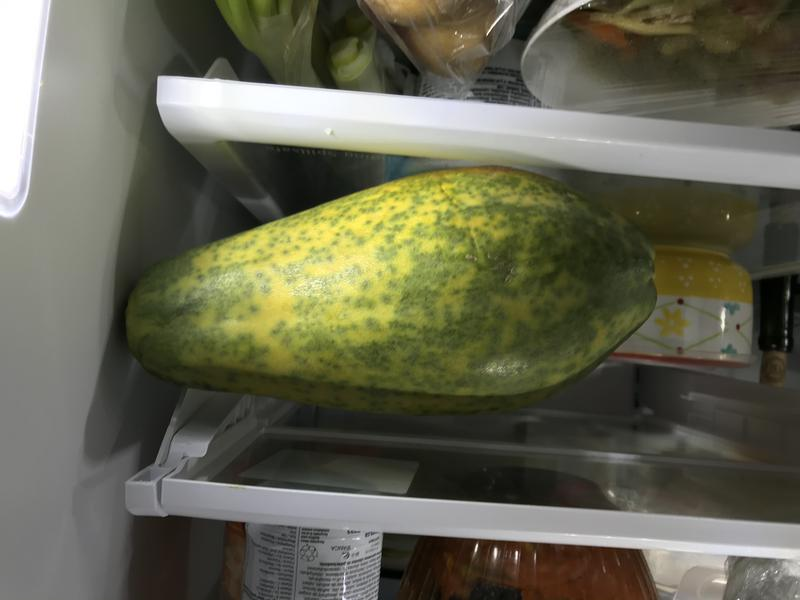papaya: (114, 157, 679, 420)
